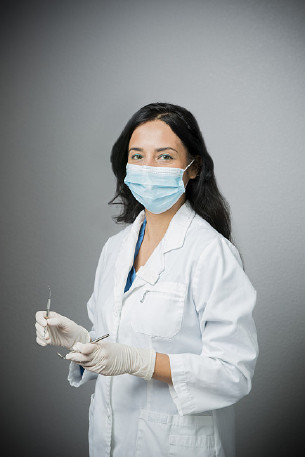face_mask: (125, 126, 186, 213)
